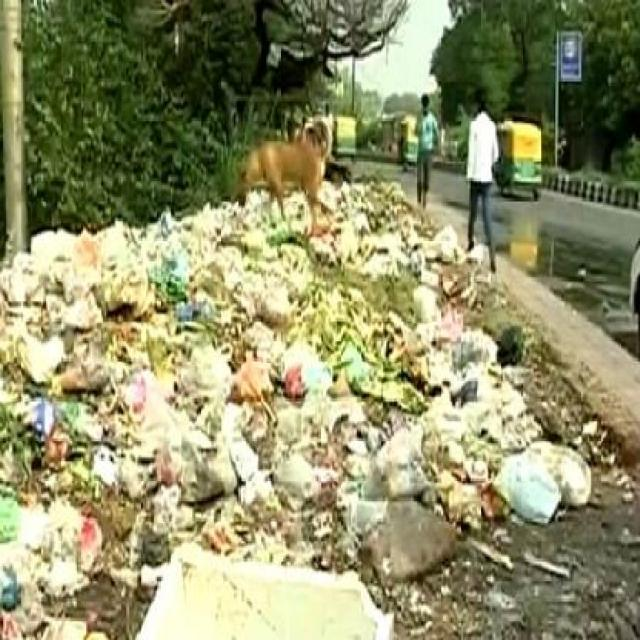garbage: (29, 250, 454, 539), (426, 333, 577, 533), (12, 440, 113, 631), (337, 165, 422, 359)
